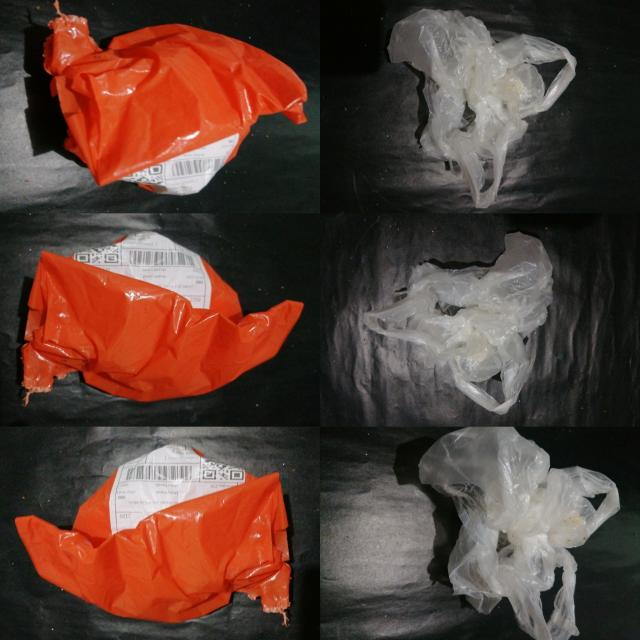Single-layer Plastic: (44, 2, 306, 194), (15, 444, 290, 622), (21, 231, 303, 403), (419, 428, 619, 640), (388, 9, 577, 208), (364, 232, 553, 414)
